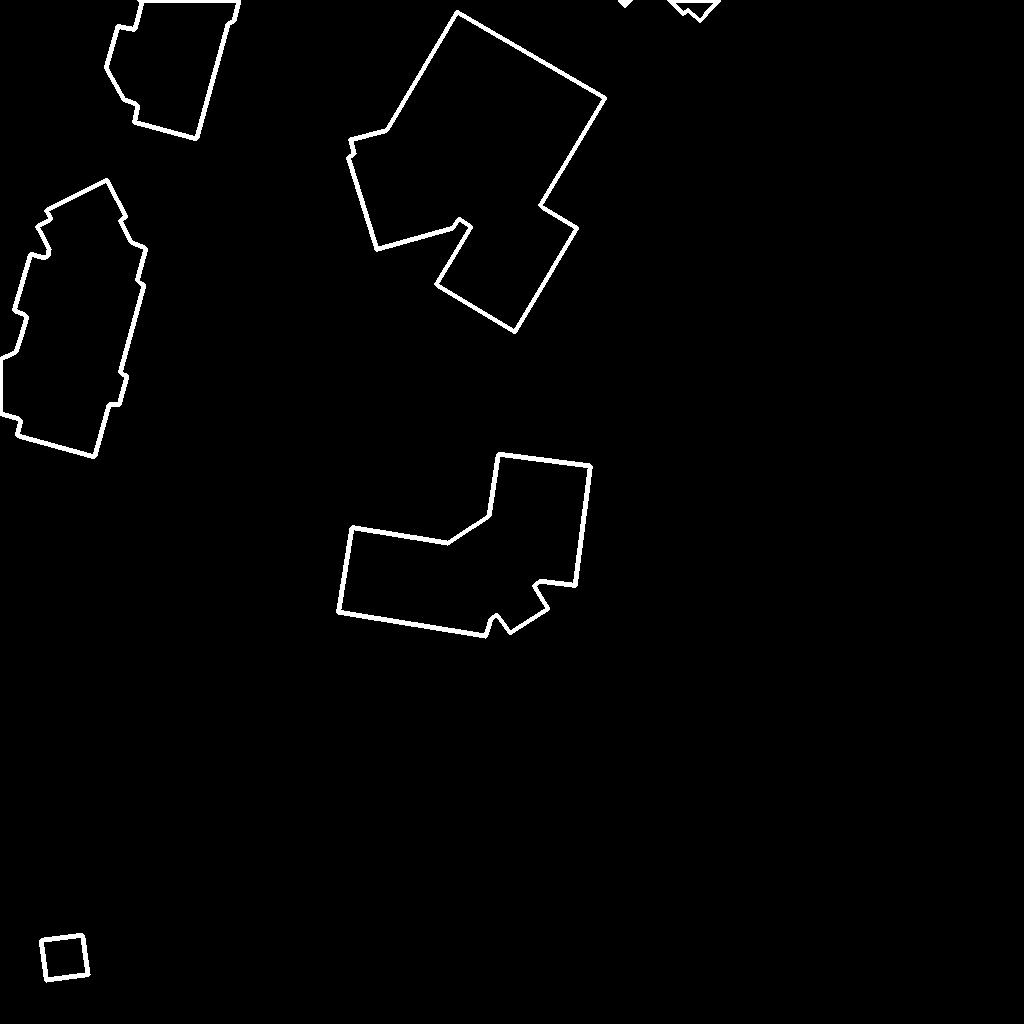building: (348, 12, 606, 333), (338, 454, 592, 637), (0, 180, 147, 458), (106, 0, 240, 140), (619, 0, 721, 22), (41, 935, 89, 981)
